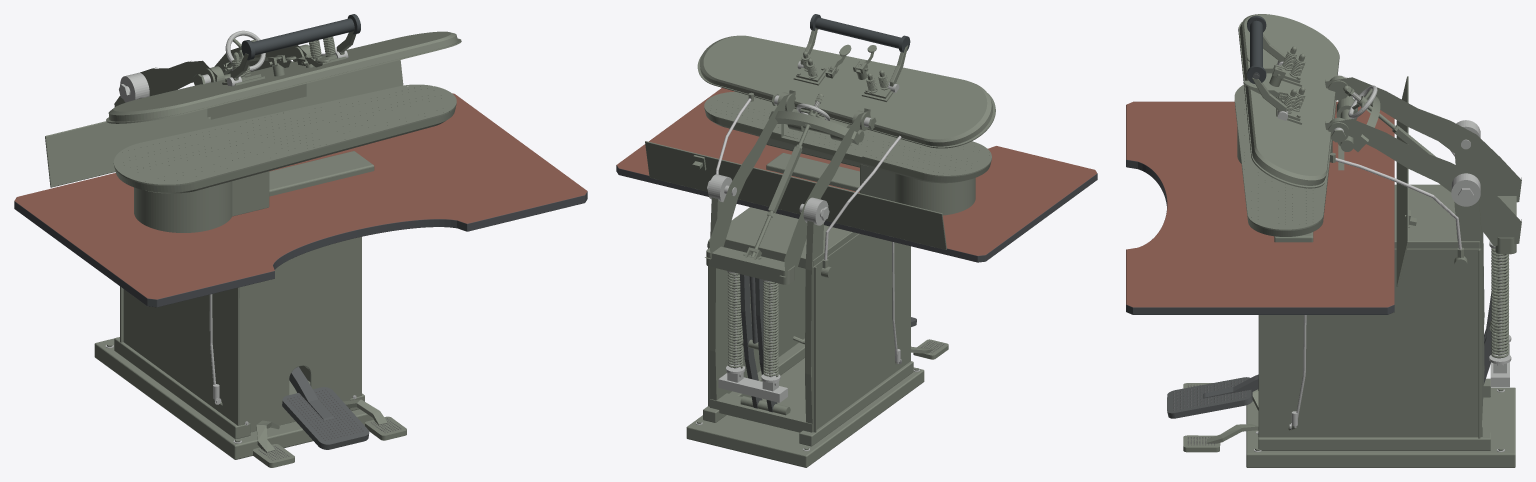
File: FASTER_B_PRESS_CONTINUED.glb
The picture shows the model from 3 angles, left to right: view 1: azimuth 30°, elevation 25°; view 2: azimuth 150°, elevation 25°; view 3: azimuth 270°, elevation 25°; orthographic projection. The views are drawn at different scales.
Visible parts, largest first — view 1: node_00063_Group445, node_00018_Front_service_panel, node_00035_Buck_surface_1067_298.45_222.25, node_00013_Cabinet_side_panel, node_00029_Rear_table_splash_guard, node_00040_Upper_press_olive_cover, node_00002_Base_463.55_x_787.40, node_00031_Buck_left_pedestal, node_00032_Buck_lower_shell, node_00114_Main_pedal_rounded_plate, node_00038_Buck_saddle_crossbeam, node_00003_Base_longitudinal_rail (+9 smaller); view 2: node_00063_Group445, node_00040_Upper_press_olive_cover, node_00013_Cabinet_side_panel, node_00029_Rear_table_splash_guard, node_00002_Base_463.55_x_787.40, node_00035_Buck_surface_1067_298.45_222.25, node_00017_Cabinet_top_crossbeam, node_00014_Cabinet_side_panel.001, node_00068_Rear_fixed_cast_upright_1, node_00031_Buck_left_pedestal, node_00299_Group187, node_00032_Buck_lower_shell (+19 smaller); view 3: node_00063_Group445, node_00014_Cabinet_side_panel.001, node_00040_Upper_press_olive_cover, node_00002_Base_463.55_x_787.40, node_00035_Buck_surface_1067_298.45_222.25, node_00298_Group186, node_00299_Group187, node_00004_Base_longitudinal_rail.001, node_00017_Cabinet_top_crossbeam, node_00114_Main_pedal_rounded_plate, node_00095_Rear_return_coil_1, node_00029_Rear_table_splash_guard (+13 smaller).
Boxes of the visible parts, x1,y1,x2,y2 form: node_00063_Group445: (14, 93, 587, 307); node_00018_Front_service_panel: (239, 237, 360, 432); node_00035_Buck_surface_1067_298.45_222.25: (113, 84, 456, 185); node_00013_Cabinet_side_panel: (123, 287, 239, 425); node_00029_Rear_table_splash_guard: (45, 60, 403, 187); node_00040_Upper_press_olive_cover: (108, 31, 458, 121); node_00002_Base_463.55_x_787.40: (94, 338, 373, 459); node_00031_Buck_left_pedestal: (134, 181, 232, 232); node_00032_Buck_lower_shell: (114, 87, 456, 193); node_00114_Main_pedal_rounded_plate: (282, 387, 369, 449); node_00038_Buck_saddle_crossbeam: (269, 151, 374, 196); node_00003_Base_longitudinal_rail: (114, 337, 250, 439); node_00063_Group445: (616, 88, 1097, 262); node_00040_Upper_press_olive_cover: (700, 35, 992, 146); node_00013_Cabinet_side_panel: (812, 233, 910, 432); node_00029_Rear_table_splash_guard: (645, 141, 946, 249); node_00002_Base_463.55_x_787.40: (686, 358, 924, 467); node_00035_Buck_surface_1067_298.45_222.25: (704, 91, 991, 176); node_00017_Cabinet_top_crossbeam: (723, 207, 858, 268); node_00014_Cabinet_side_panel.001: (709, 246, 805, 406); node_00068_Rear_fixed_cast_upright_1: (709, 197, 727, 400); node_00031_Buck_left_pedestal: (895, 173, 975, 215); node_00299_Group187: (705, 90, 795, 259); node_00032_Buck_lower_shell: (705, 93, 990, 183); node_00063_Group445: (1126, 101, 1394, 314); node_00014_Cabinet_side_panel.001: (1259, 248, 1481, 437); node_00040_Upper_press_olive_cover: (1239, 14, 1339, 185); node_00002_Base_463.55_x_787.40: (1246, 387, 1515, 467); node_00035_Buck_surface_1067_298.45_222.25: (1234, 84, 1336, 230); node_00298_Group186: (1325, 77, 1521, 202); node_00299_Group187: (1325, 119, 1521, 245); node_00004_Base_longitudinal_rail.001: (1258, 432, 1490, 450); node_00017_Cabinet_top_crossbeam: (1394, 184, 1479, 248); node_00114_Main_pedal_rounded_plate: (1167, 377, 1252, 418); node_00095_Rear_return_coil_1: (1491, 248, 1509, 358); node_00029_Rear_table_splash_guard: (1396, 76, 1408, 286).
Bounding box in the file's own units: 1.42 × 1.27 × 1.16.
